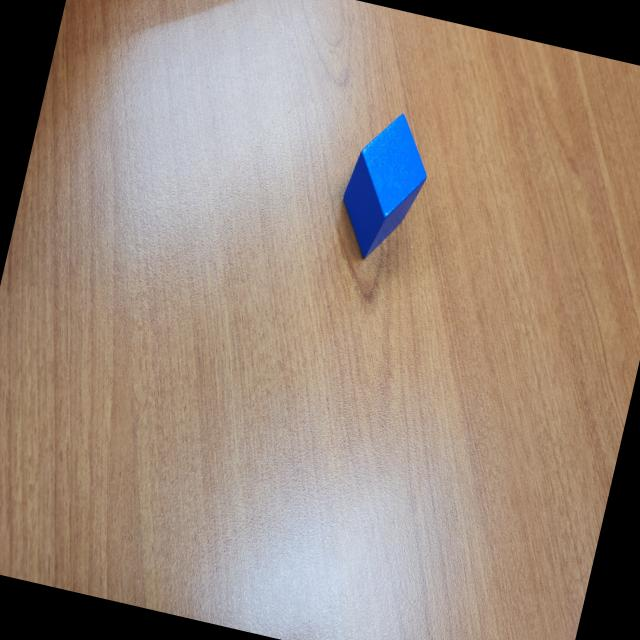blue: (330, 104, 440, 270)
